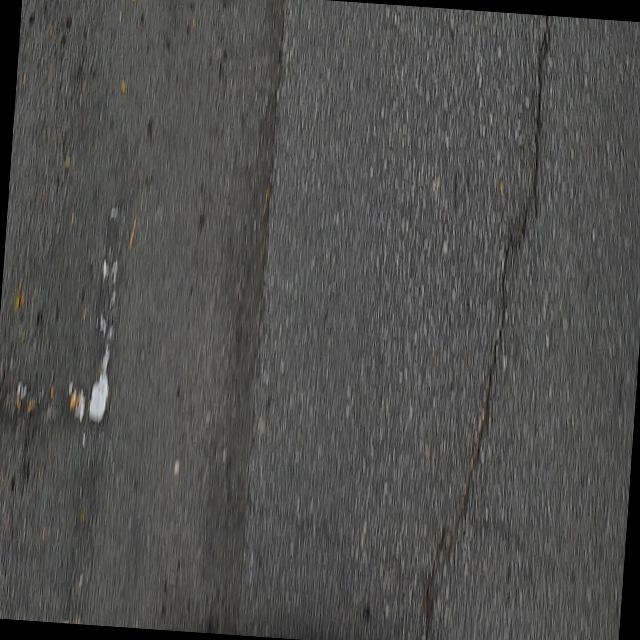Retak-Memanjang: (418, 18, 554, 640)
